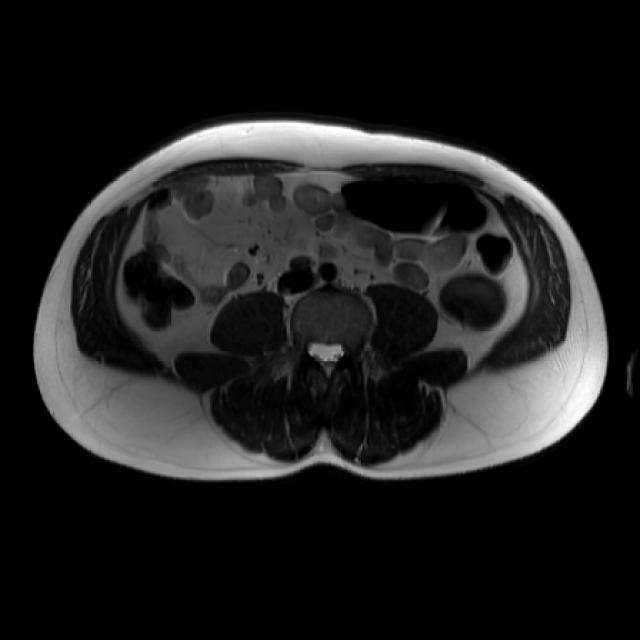sol: (443, 273, 508, 332)
